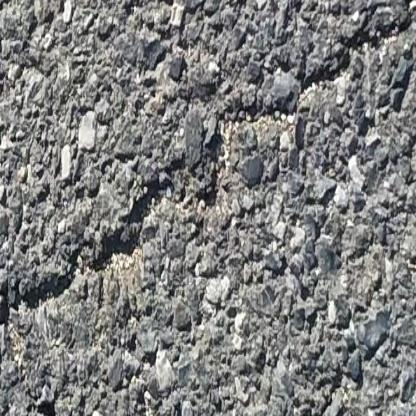Cracks: (0, 0, 416, 345), (149, 406, 218, 416), (291, 406, 346, 416), (349, 412, 391, 416)
